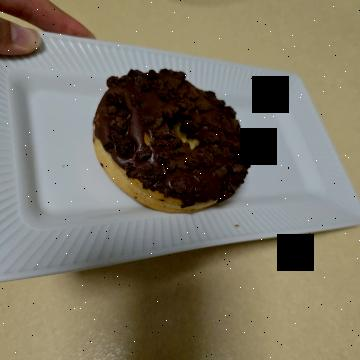doughnut: (56, 108, 237, 286)
